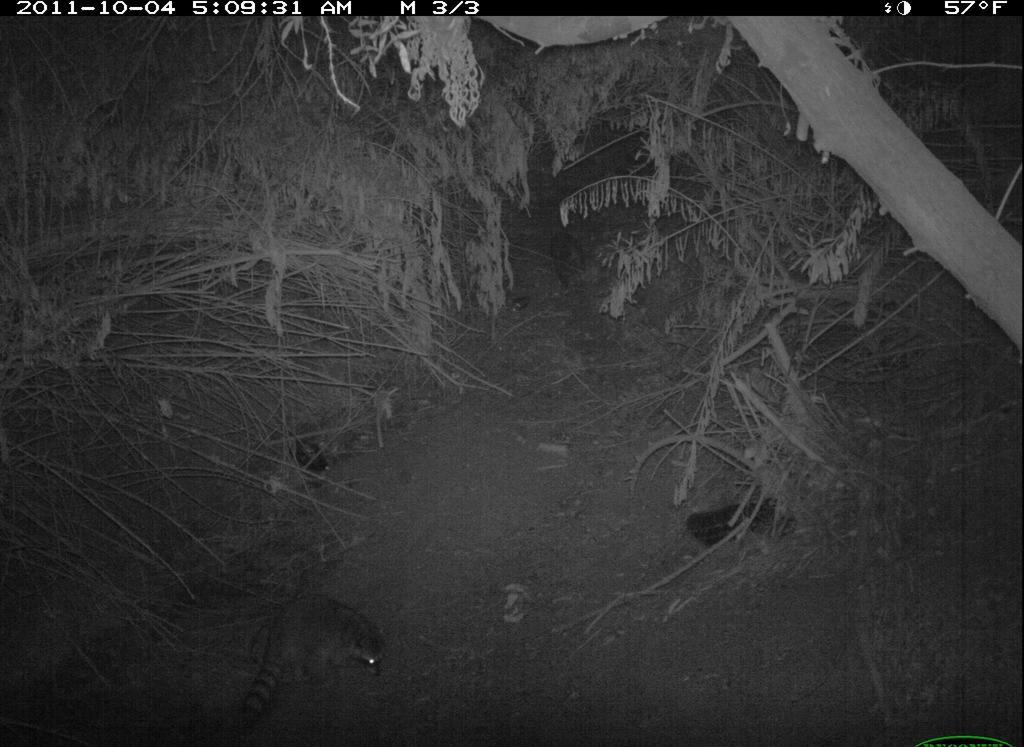raccoon: (549, 229, 589, 290)
